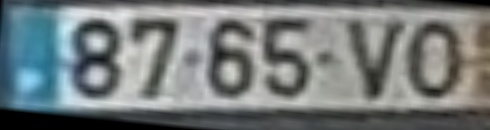5: (260, 20, 313, 102)
6: (205, 15, 262, 104)
7: (126, 18, 183, 105)
8: (66, 18, 124, 105)
O: (405, 20, 462, 103)
V: (341, 21, 410, 103)
